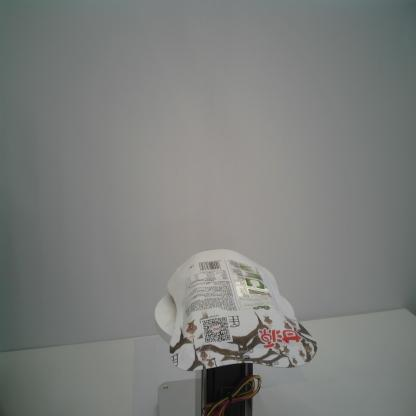Dried Fruit: (166, 249, 318, 373)
